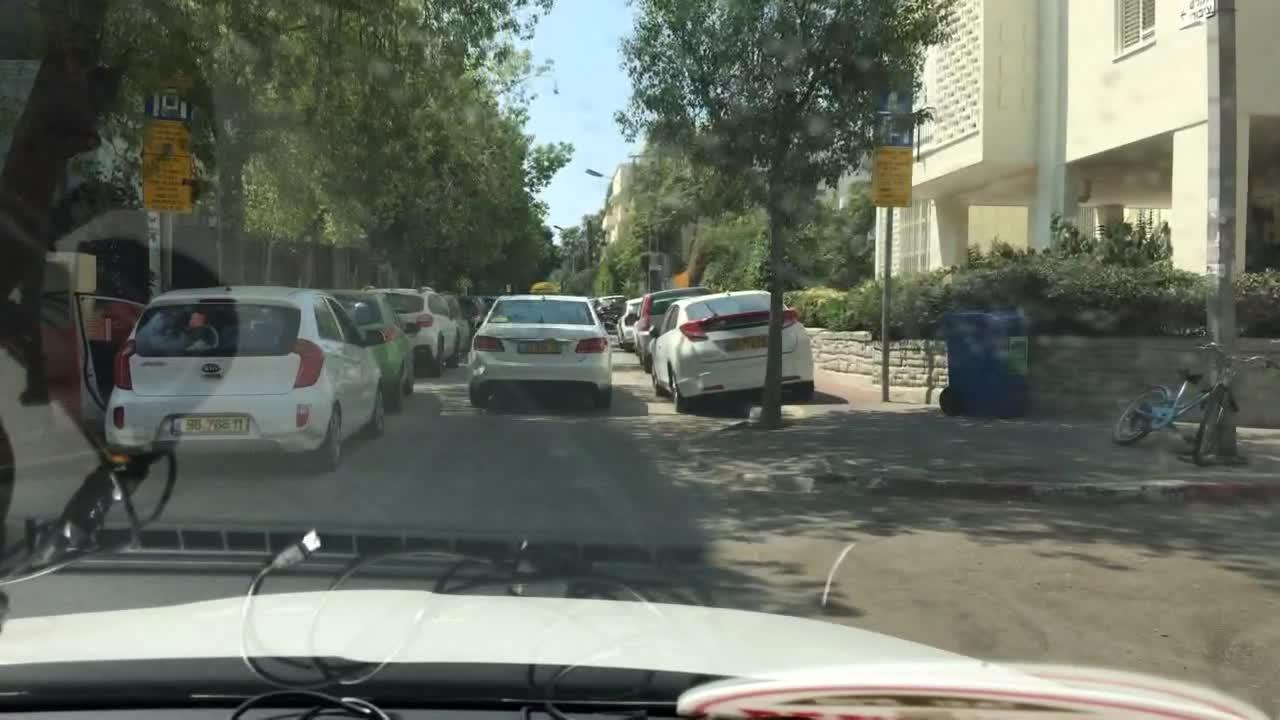kia: (197, 360, 226, 378)
